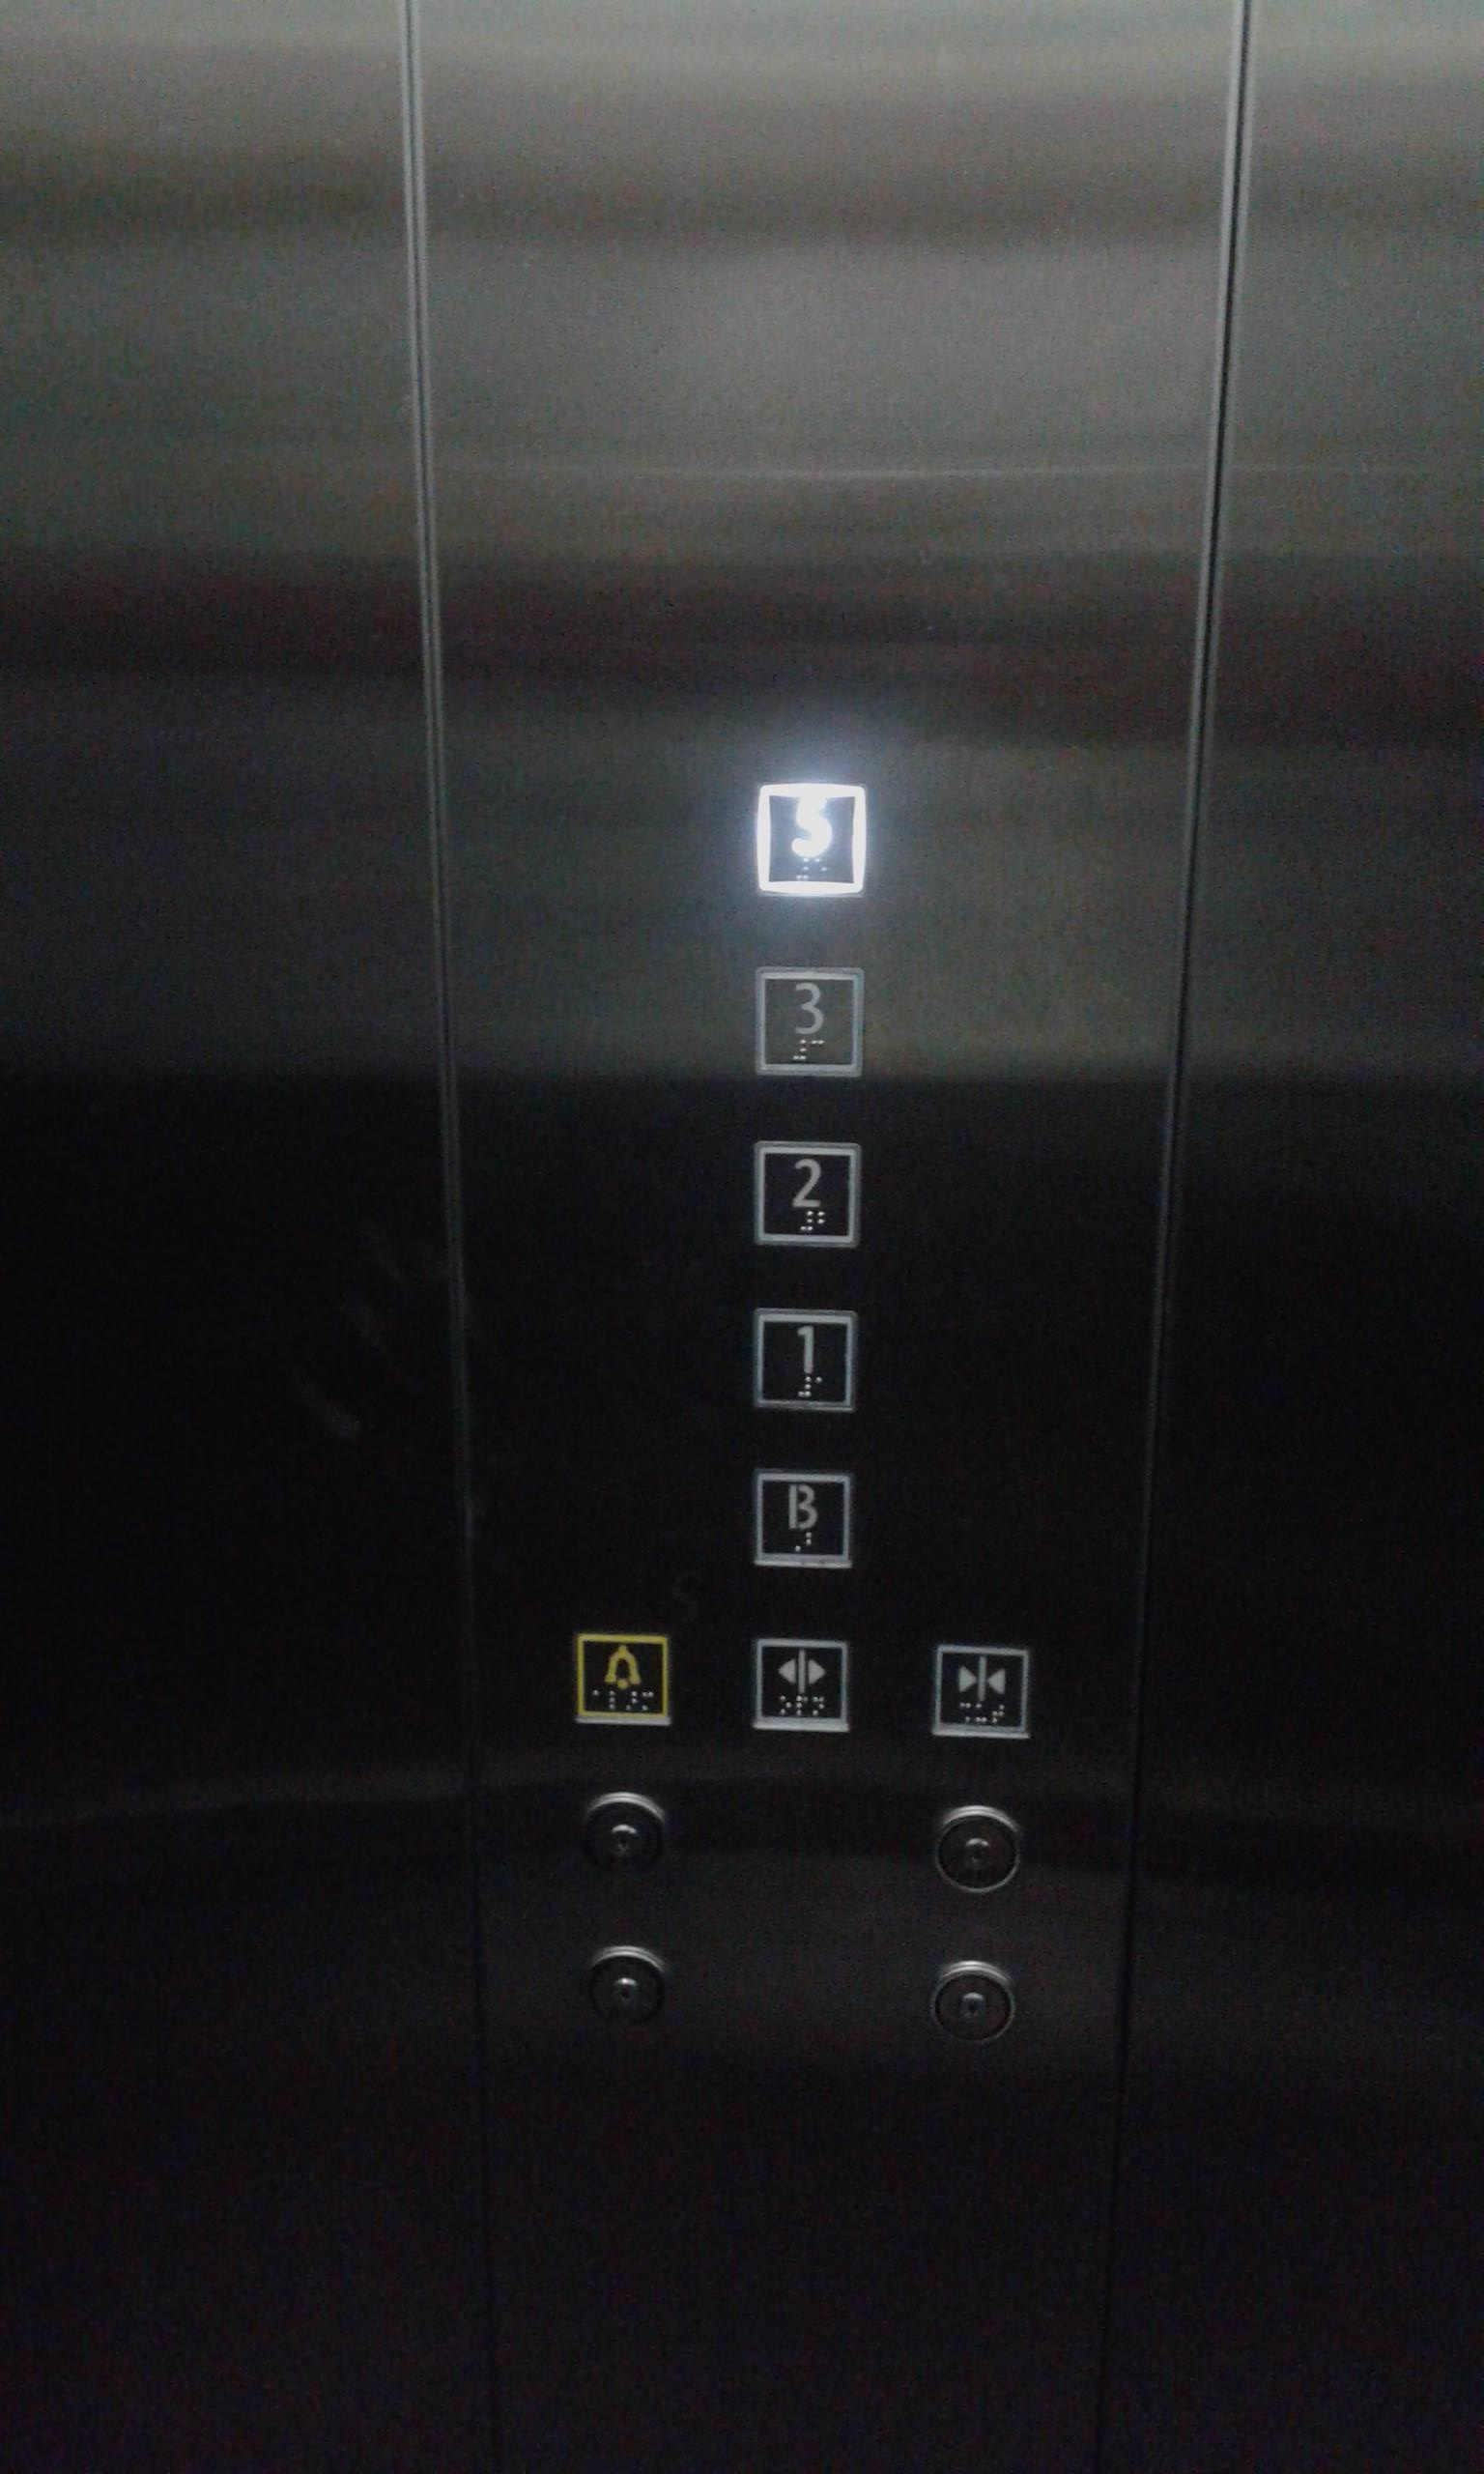1: (746, 1302, 862, 1421)
2: (747, 1136, 866, 1255)
3: (746, 958, 873, 1081)
5: (749, 778, 873, 901)
B: (749, 1465, 857, 1573)
alarm: (569, 1628, 677, 1730)
close: (931, 1640, 1028, 1741)
indicator: (929, 1801, 1026, 1900), (922, 1956, 1023, 2050), (579, 1787, 673, 1884), (574, 1942, 675, 2032)
open: (747, 1633, 855, 1739)
